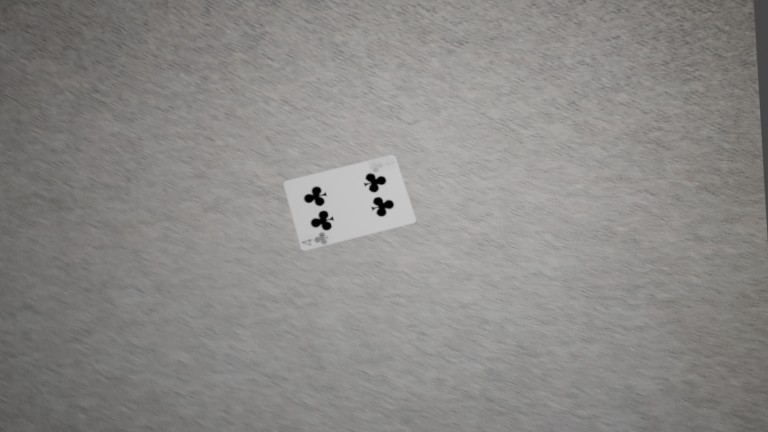4_of_clubs: (300, 230, 331, 250), (367, 155, 397, 174)
